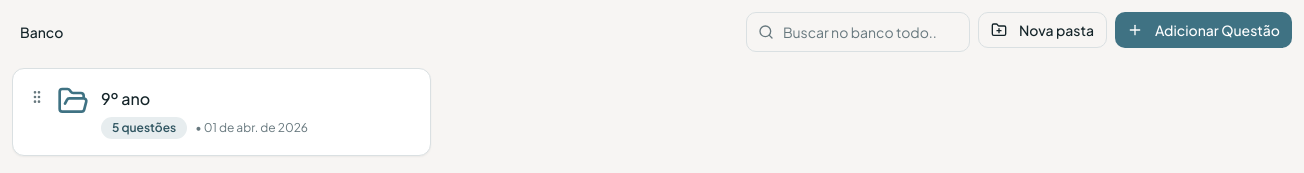
Test: QuestionBankFolderView — fluxo de navegação › breadcrumb Banco leva de volta à raiz
Check: the text "9º ano" is shown, box [101,87,150,111]
Click the button with aria-label "Abrir pasta 9º ano" at (73, 101), box [12,68,431,156]
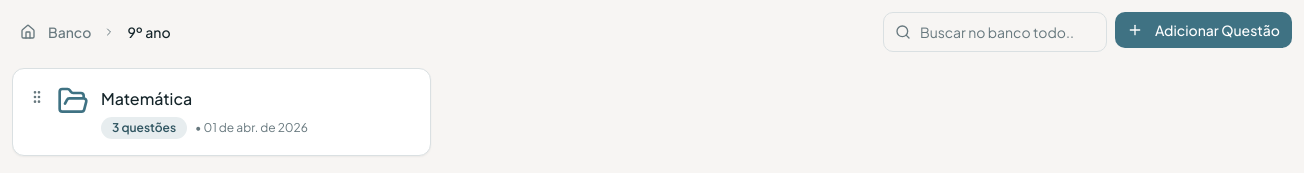
Check: the text "Matemática" is shown, box [101,87,192,111]
// Clica "Banco" no breadcrumb
Click the button "Banco" at (56, 32), box [12,18,100,46]
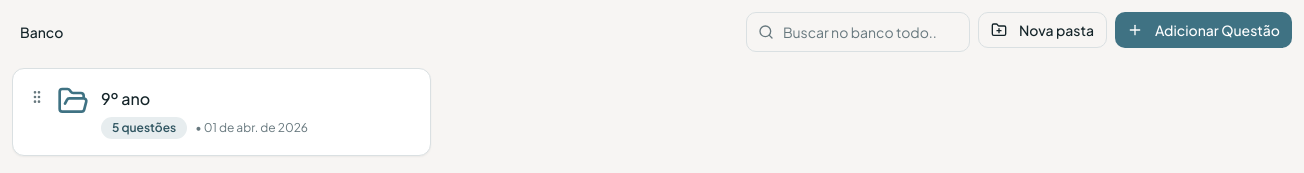
Check: the button "Matemática" is gone
Check: the text "9º ano" is shown, box [101,87,150,111]
